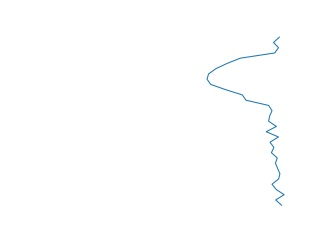distalBar: (201, 36, 289, 206)
